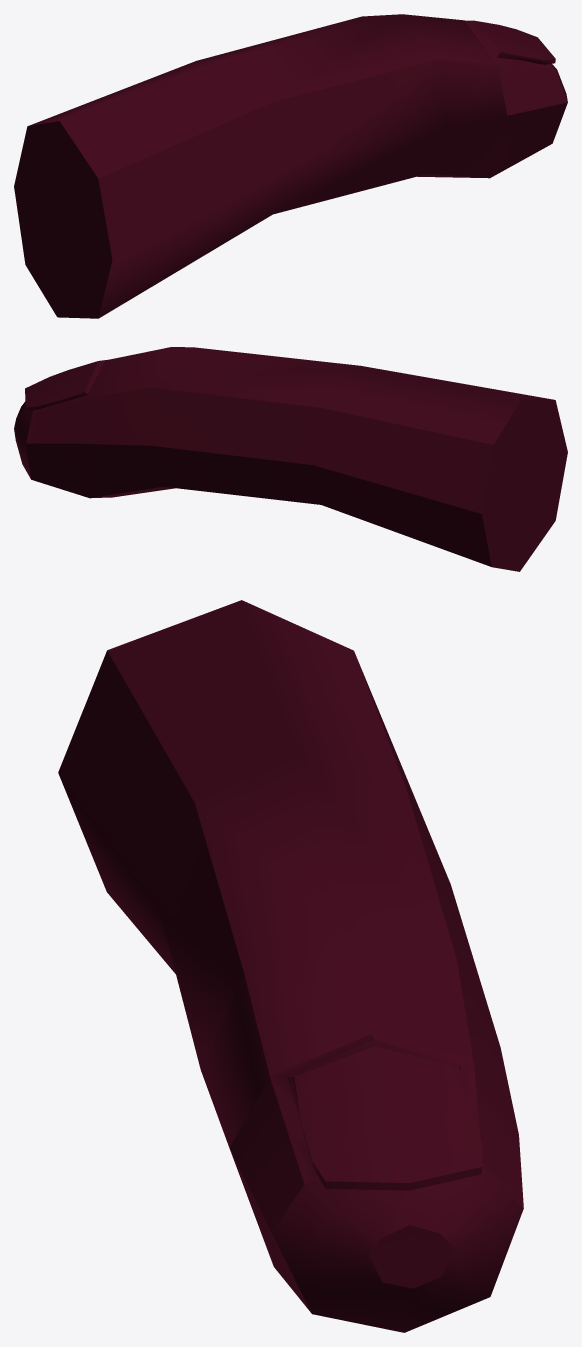
The model's file is ING_Bar_Finger_v01.fbx.
The picture shows the model from 3 angles, top to bottom: view 1: azimuth 30°, elevation 25°; view 2: azimuth 150°, elevation 25°; view 3: azimuth 270°, elevation 25°; orthographic projection. The views are drawn at different scales.
Visible parts, largest first — view 1: Rest_Bar_Set04_Finger_01; view 2: Rest_Bar_Set04_Finger_01; view 3: Rest_Bar_Set04_Finger_01.
Boxes of the visible parts, x1,y1,x2,y2 form: Rest_Bar_Set04_Finger_01: [14, 14, 567, 318]; Rest_Bar_Set04_Finger_01: [14, 347, 567, 571]; Rest_Bar_Set04_Finger_01: [58, 600, 523, 1332].
Bounding box in the file's own units: 6.02 × 2.17 × 2.63.
